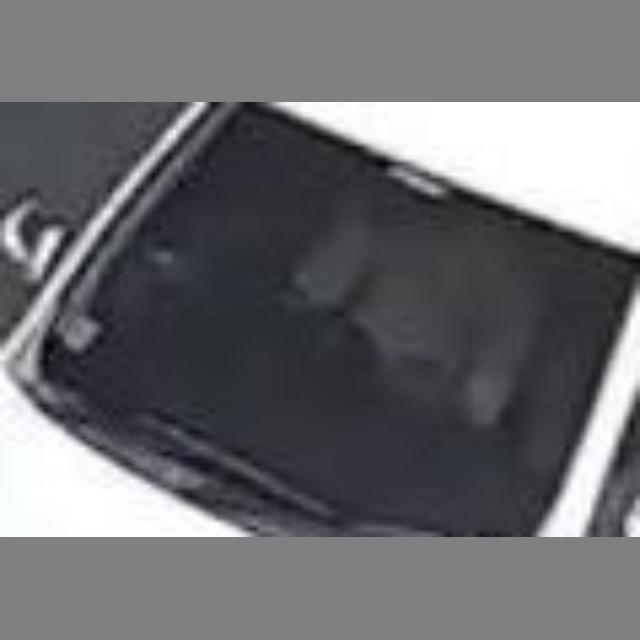tidak-pakai: (258, 193, 538, 446)
